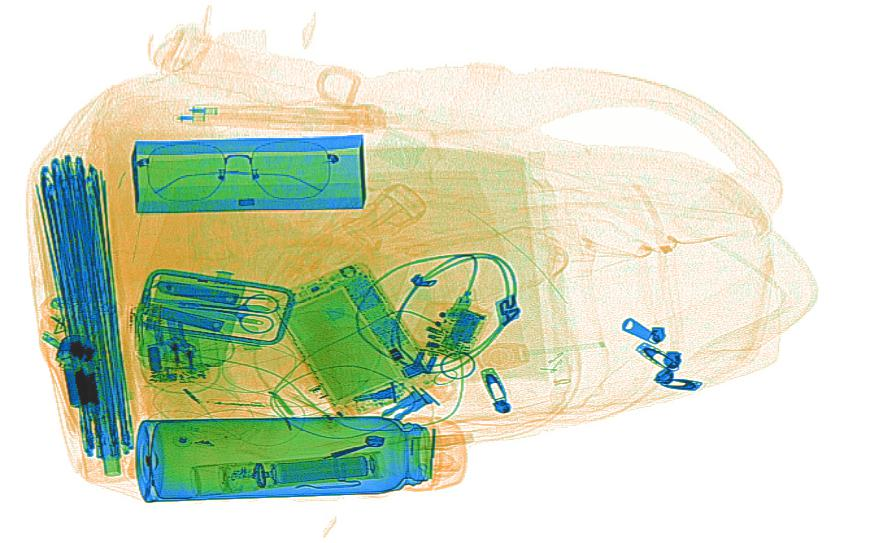battery: (269, 456, 373, 486), (61, 361, 100, 414)
scissors: (167, 290, 279, 334)
